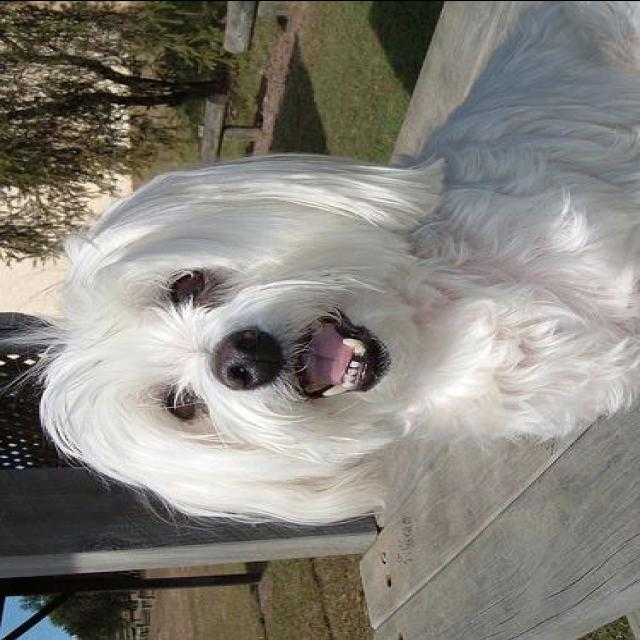maltese_dog: (0, 1, 638, 535)
